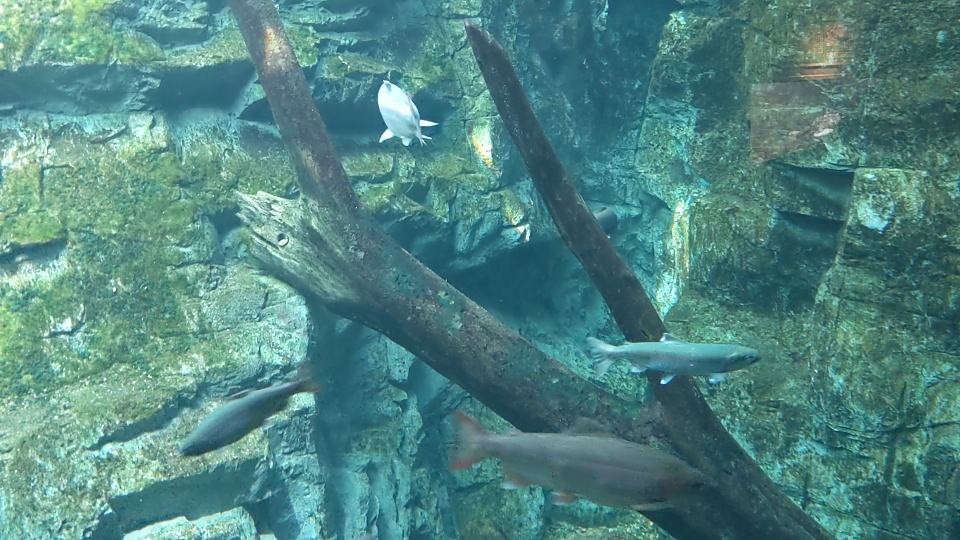Fish: (450, 412, 717, 516), (172, 370, 318, 460), (582, 320, 759, 381), (373, 76, 433, 147)
